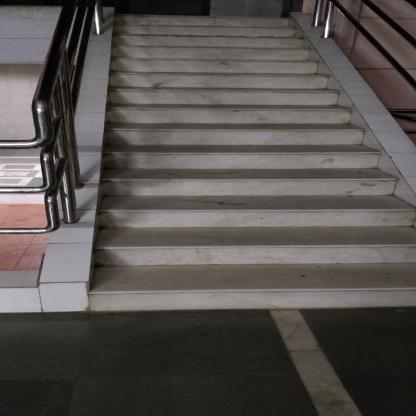stairs: (111, 151, 382, 326)
